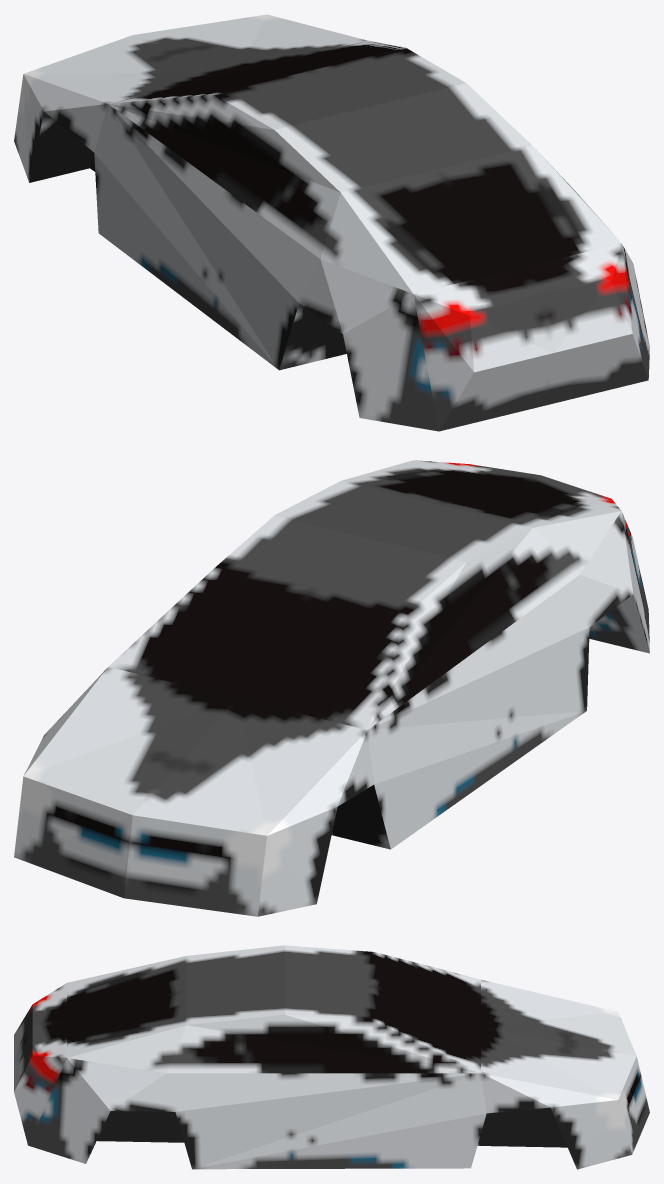
The model's file is cartypebody2.obj.
The picture shows the model from 3 angles, top to bottom: view 1: azimuth 30°, elevation 25°; view 2: azimuth 150°, elevation 25°; view 3: azimuth 270°, elevation 25°; orthographic projection. The views are drawn at different scales.
Visible parts, largest first — view 1: cartypebody2_Cube; view 2: cartypebody2_Cube; view 3: cartypebody2_Cube.
Boxes of the visible parts, x1,y1,x2,y2 form: cartypebody2_Cube: [14, 14, 649, 431]; cartypebody2_Cube: [14, 460, 649, 916]; cartypebody2_Cube: [14, 945, 649, 1169].
Bounding box in the file's own units: 1.93 × 1.11 × 4.66.
